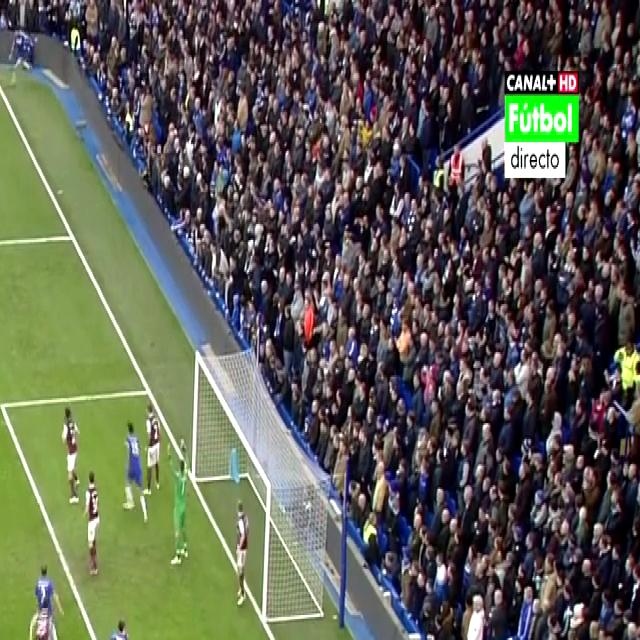goalkeeper: (170, 463, 192, 570)
soccer-player: (228, 488, 255, 615), (118, 413, 144, 523), (54, 400, 81, 505), (83, 472, 106, 575), (32, 556, 58, 640), (96, 608, 135, 640), (31, 597, 58, 640)
